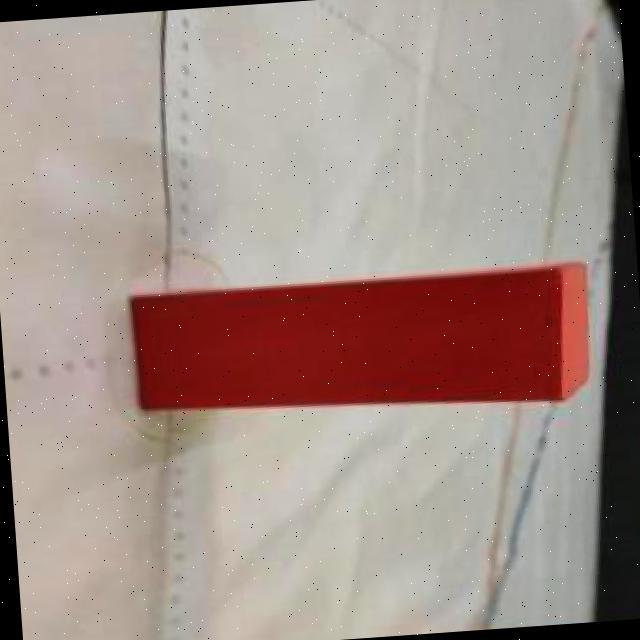redbox: (130, 263, 591, 417)
